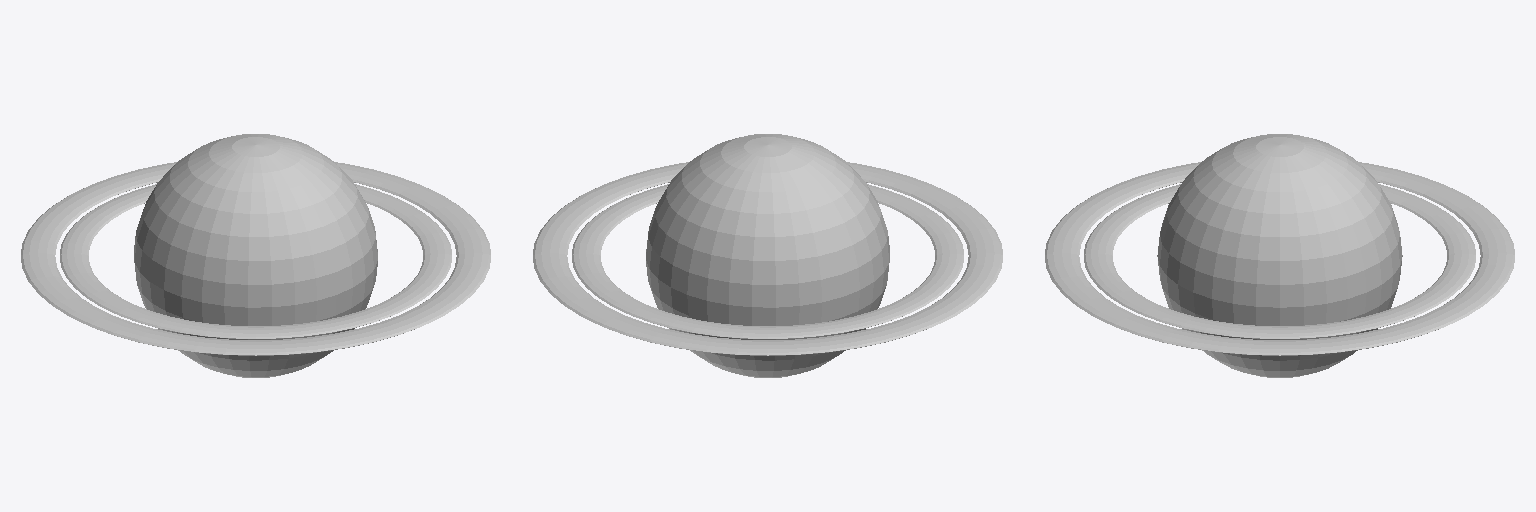
Rendered from planet.obj.
3 views of the same model, side by side, from view 1: azimuth 30°, elevation 25°; view 2: azimuth 150°, elevation 25°; view 3: azimuth 270°, elevation 25° (orthographic).
Visible parts, largest first — view 1: Sphere, Torus, Torus.001; view 2: Sphere, Torus, Torus.001; view 3: Sphere, Torus, Torus.001.
Part boxes in pixels (left/top/right/bottom): Sphere: left=134, top=134, right=377, bottom=377; Torus: left=21, top=162, right=490, bottom=355; Torus.001: left=60, top=184, right=451, bottom=338; Sphere: left=646, top=134, right=889, bottom=377; Torus: left=533, top=162, right=1002, bottom=355; Torus.001: left=572, top=184, right=963, bottom=338; Sphere: left=1157, top=134, right=1402, bottom=377; Torus: left=1045, top=162, right=1514, bottom=355; Torus.001: left=1084, top=184, right=1475, bottom=338.
Bounding box in the file's own units: 1.97 × 1.03 × 1.97.